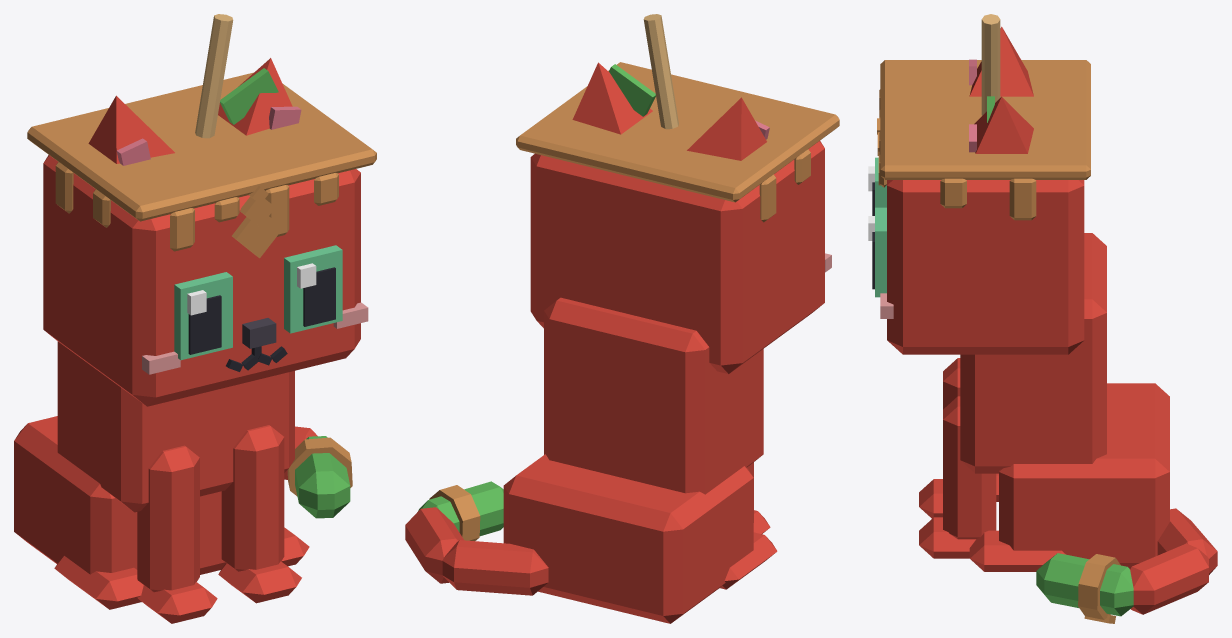
Rendered from CatCafe_Cat_CandyApple_Sit.glb.
3 renders of one model, left to right at view 1: azimuth 30°, elevation 25°; view 2: azimuth 150°, elevation 25°; view 3: azimuth 270°, elevation 25°, orthographic. The views are drawn at different scales.
Parts seen in each view (by area): view 1: CatCafe_Cat_CandyApple_Sit_Head, CatCafe_Cat_CandyApple_Sit_Body, CatCafe_Cat_CandyApple_Sit_Prop, CatCafe_Cat_CandyApple_Sit_LegF1, CatCafe_Cat_CandyApple_Sit_LegF2, CatCafe_Cat_CandyApple_Sit_Eye1, CatCafe_Cat_CandyApple_Sit_Eye2, CatCafe_Cat_CandyApple_Sit_Tail, CatCafe_Cat_CandyApple_Sit_EarR, CatCafe_Cat_CandyApple_Sit_EarL, CatCafe_Cat_CandyApple_Sit_Tail_Caramel; view 2: CatCafe_Cat_CandyApple_Sit_Body, CatCafe_Cat_CandyApple_Sit_Head, CatCafe_Cat_CandyApple_Sit_Prop, CatCafe_Cat_CandyApple_Sit_Tail, CatCafe_Cat_CandyApple_Sit_EarR, CatCafe_Cat_CandyApple_Sit_EarL, CatCafe_Cat_CandyApple_Sit_Tail_Caramel; view 3: CatCafe_Cat_CandyApple_Sit_Body, CatCafe_Cat_CandyApple_Sit_Head, CatCafe_Cat_CandyApple_Sit_Prop, CatCafe_Cat_CandyApple_Sit_Tail, CatCafe_Cat_CandyApple_Sit_LegF1, CatCafe_Cat_CandyApple_Sit_EarL, CatCafe_Cat_CandyApple_Sit_EarR, CatCafe_Cat_CandyApple_Sit_Tail_Caramel, CatCafe_Cat_CandyApple_Sit_LegF2, CatCafe_Cat_CandyApple_Sit_Eye1, CatCafe_Cat_CandyApple_Sit_Eye2.
Boxes of the visible parts, left/top/right/bottom form: CatCafe_Cat_CandyApple_Sit_Head: left=43, top=155, right=368, bottom=406; CatCafe_Cat_CandyApple_Sit_Body: left=14, top=341, right=309, bottom=609; CatCafe_Cat_CandyApple_Sit_Prop: left=27, top=14, right=376, bottom=251; CatCafe_Cat_CandyApple_Sit_LegF1: left=218, top=425, right=301, bottom=603; CatCafe_Cat_CandyApple_Sit_LegF2: left=137, top=445, right=217, bottom=623; CatCafe_Cat_CandyApple_Sit_Eye1: left=284, top=245, right=342, bottom=333; CatCafe_Cat_CandyApple_Sit_Eye2: left=174, top=272, right=232, bottom=360; CatCafe_Cat_CandyApple_Sit_Tail: left=284, top=426, right=350, bottom=518; CatCafe_Cat_CandyApple_Sit_EarR: left=88, top=95, right=174, bottom=165; CatCafe_Cat_CandyApple_Sit_EarL: left=218, top=58, right=301, bottom=135; CatCafe_Cat_CandyApple_Sit_Tail_Caramel: left=287, top=437, right=352, bottom=495; CatCafe_Cat_CandyApple_Sit_Body: left=503, top=297, right=777, bottom=623; CatCafe_Cat_CandyApple_Sit_Head: left=530, top=141, right=831, bottom=373; CatCafe_Cat_CandyApple_Sit_Prop: left=516, top=14, right=839, bottom=222; CatCafe_Cat_CandyApple_Sit_Tail: left=405, top=481, right=548, bottom=595; CatCafe_Cat_CandyApple_Sit_EarR: left=687, top=97, right=769, bottom=160; CatCafe_Cat_CandyApple_Sit_EarL: left=572, top=62, right=652, bottom=134; CatCafe_Cat_CandyApple_Sit_Tail_Caramel: left=429, top=485, right=480, bottom=540; CatCafe_Cat_CandyApple_Sit_Body: left=960, top=233, right=1169, bottom=571; CatCafe_Cat_CandyApple_Sit_Head: left=877, top=118, right=1084, bottom=354; CatCafe_Cat_CandyApple_Sit_Prop: left=879, top=14, right=1090, bottom=220; CatCafe_Cat_CandyApple_Sit_Tail: left=1036, top=508, right=1217, bottom=616; CatCafe_Cat_CandyApple_Sit_LegF1: left=919, top=396, right=996, bottom=558; CatCafe_Cat_CandyApple_Sit_EarL: left=969, top=96, right=1033, bottom=153; CatCafe_Cat_CandyApple_Sit_EarR: left=969, top=26, right=1033, bottom=96; CatCafe_Cat_CandyApple_Sit_Tail_Caramel: left=1078, top=554, right=1120, bottom=623; CatCafe_Cat_CandyApple_Sit_LegF2: left=919, top=358, right=960, bottom=518; CatCafe_Cat_CandyApple_Sit_Eye1: left=868, top=207, right=886, bottom=297; CatCafe_Cat_CandyApple_Sit_Eye2: left=868, top=157, right=886, bottom=215.
Bounding box in the file's own units: 1.27 × 2.1 × 1.24.
Materials: 1 (1 with a texture image).
